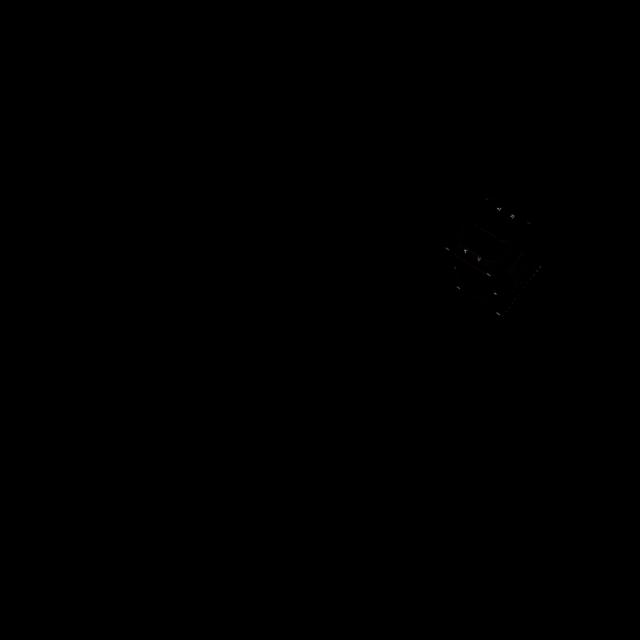medium_debris: (442, 197, 563, 328)
